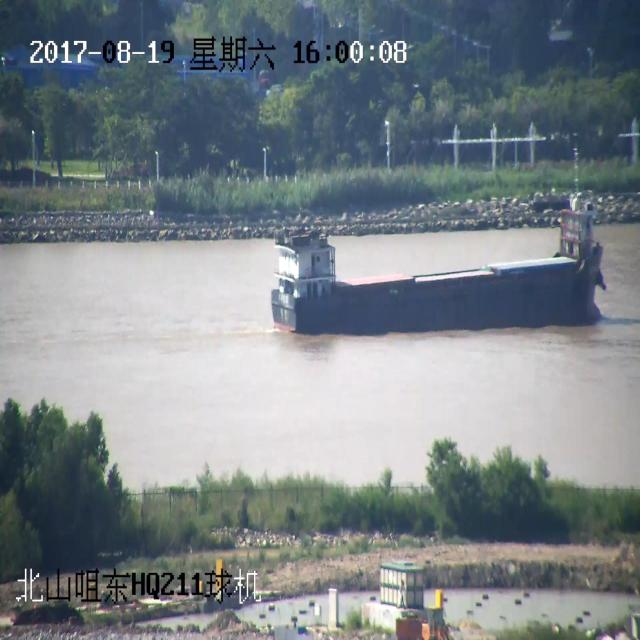houseboat: (260, 165, 616, 332)
